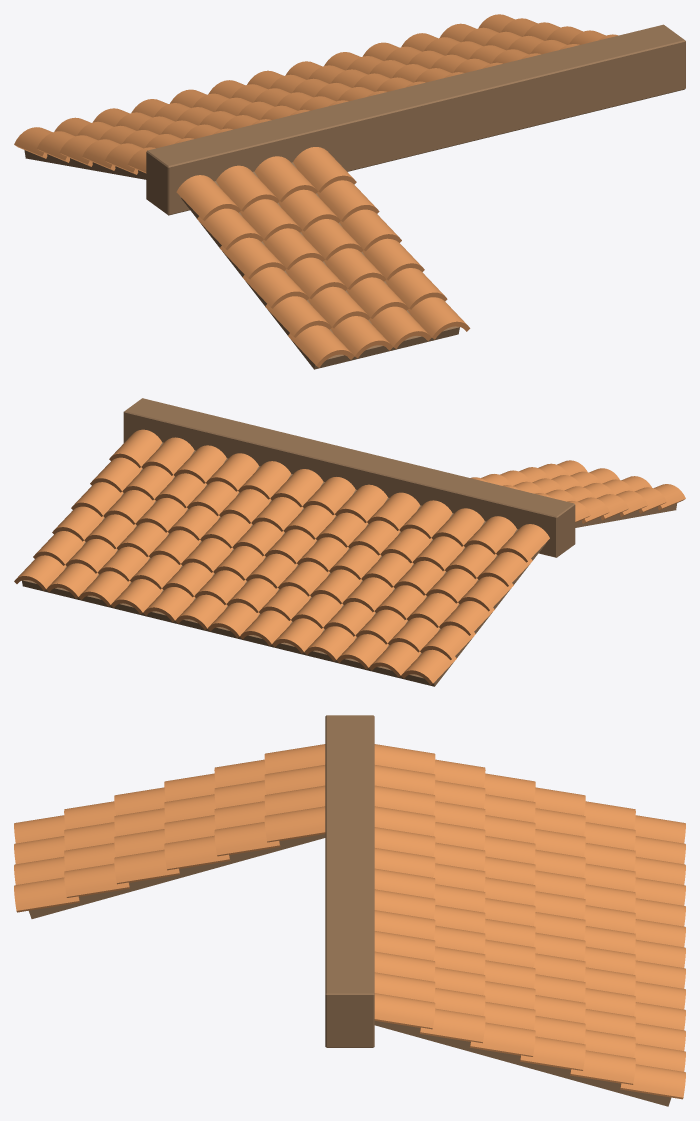
Rendered from roof.glb.
The picture shows the model from 3 angles, top to bottom: view 1: azimuth 30°, elevation 25°; view 2: azimuth 150°, elevation 25°; view 3: azimuth 270°, elevation 25°; orthographic projection. The views are drawn at different scales.
Parts seen in each view (by area): view 1: TileRoof, Cube.013, Roof; view 2: TileRoof, Cube.013, Roof; view 3: TileRoof, Cube.013, Roof.
Boxes of the visible parts, box(x1,y1,x2,y2) form: TileRoof: box(14, 14, 618, 367); Cube.013: box(146, 24, 685, 215); Roof: box(24, 150, 459, 369); TileRoof: box(14, 429, 685, 685); Cube.013: box(123, 398, 575, 557); Roof: box(22, 442, 677, 686); TileRoof: box(14, 744, 685, 1099); Cube.013: box(325, 715, 374, 1047); Roof: box(29, 834, 671, 1106).
Bounding box in the file's own units: 49.08 × 9.83 × 49.92.
